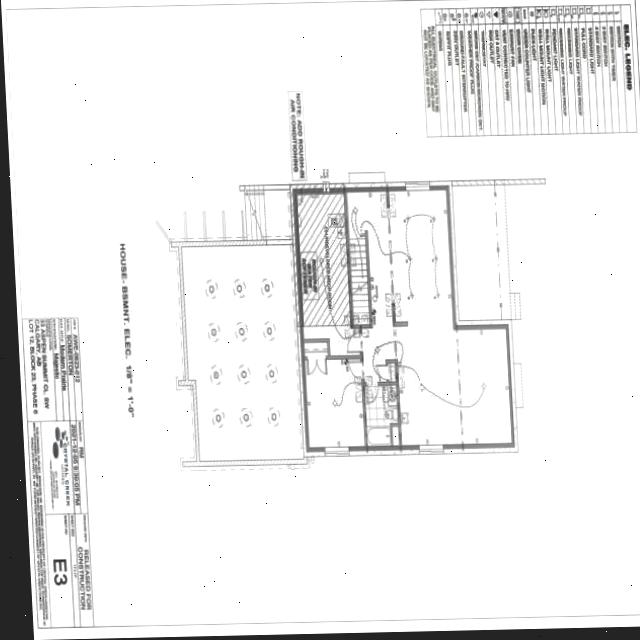room: (295, 190, 359, 358), (304, 357, 364, 449), (364, 384, 398, 447), (303, 342, 327, 357), (387, 362, 395, 382)
